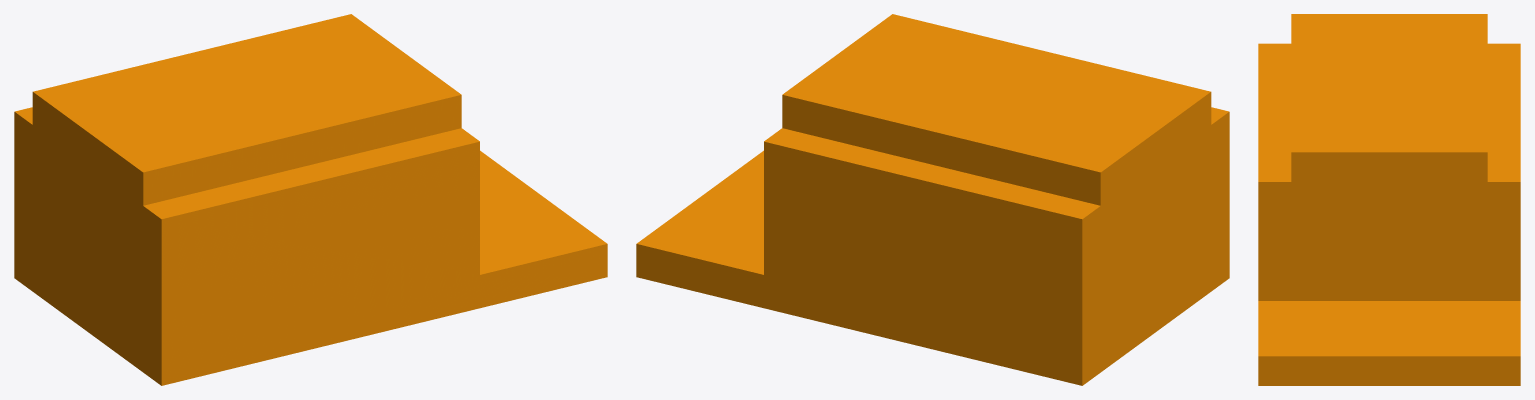
Rendered from Animals-29.obj.
The picture shows the model from 3 angles, left to right: view 1: azimuth 30°, elevation 25°; view 2: azimuth 150°, elevation 25°; view 3: azimuth 270°, elevation 25°; orthographic projection. The views are drawn at different scales.
Size of the model in its own units: 1.4 by 0.6 by 0.8.
Materials: 1 (1 with a texture image).
